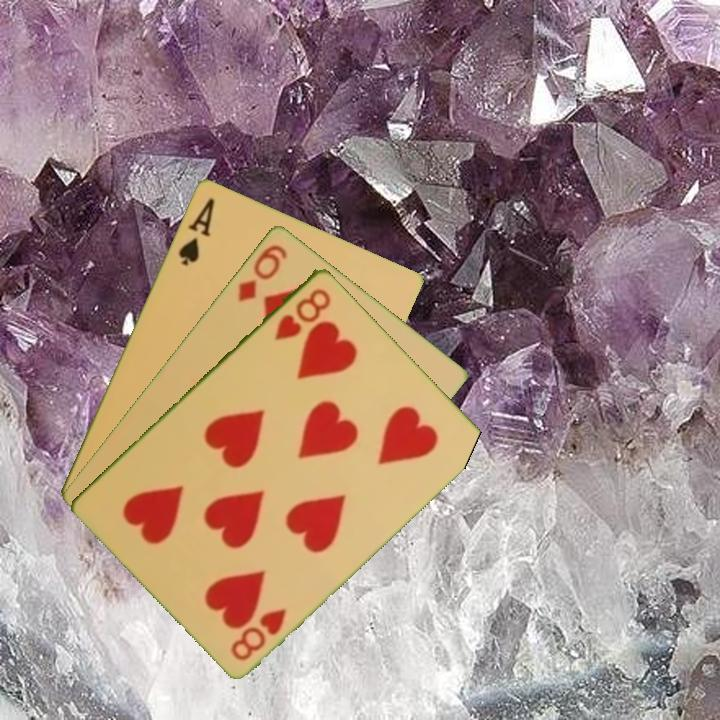6d: (234, 240, 291, 304)
8h: (270, 284, 334, 344), (227, 604, 289, 663)
As: (174, 194, 218, 269)
